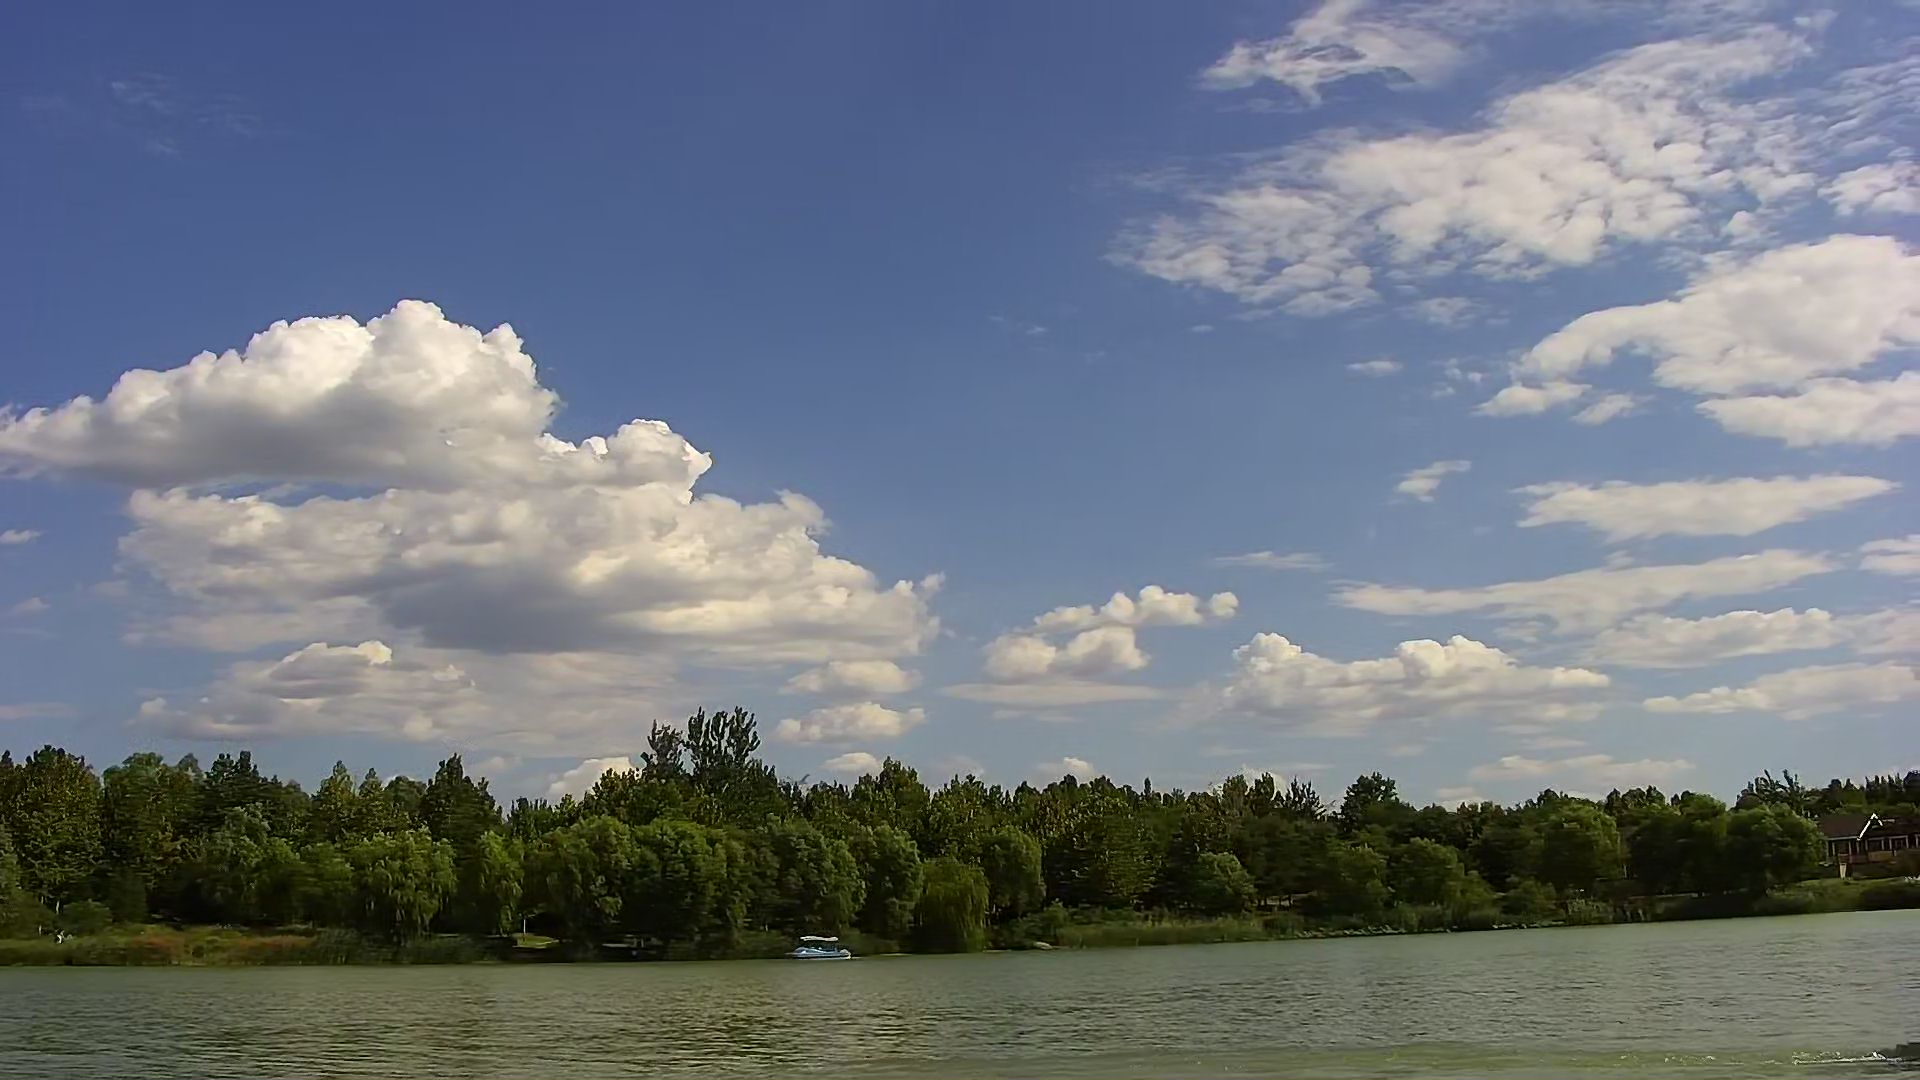boat: (783, 936, 855, 965)
